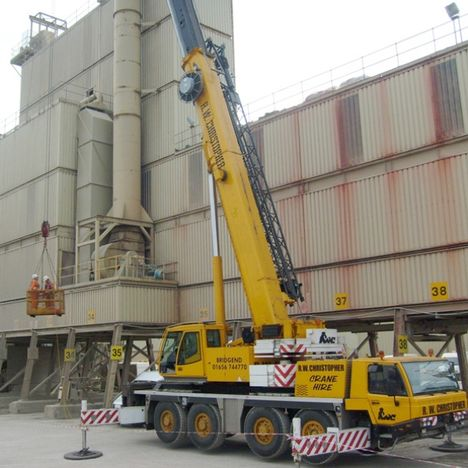crane: (144, 1, 466, 466)
